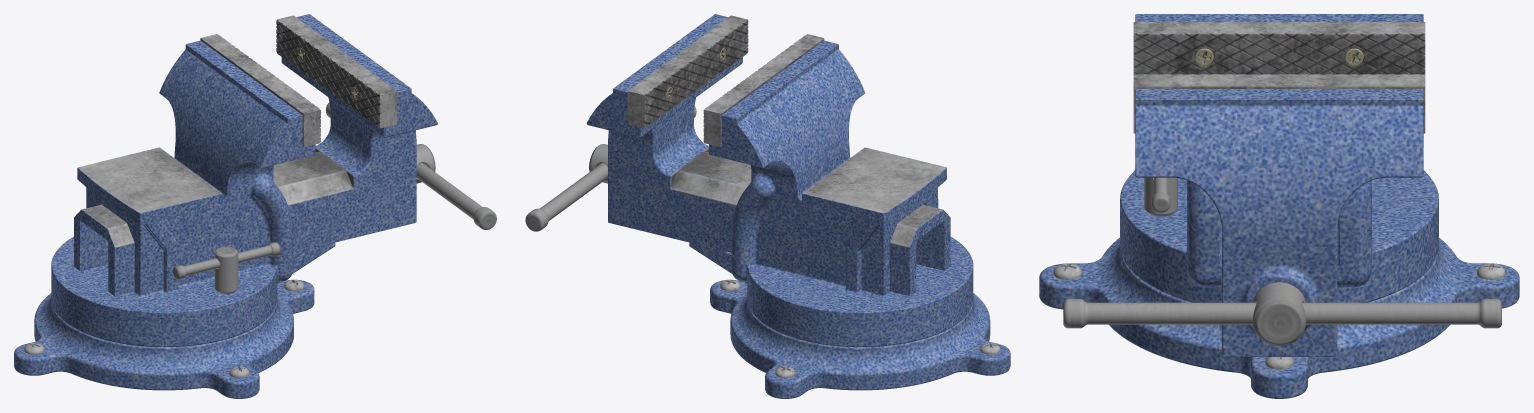
The model's file is equipment_bench_vise_a01.glb.
3 renders of one model, left to right at view 1: azimuth 30°, elevation 25°; view 2: azimuth 150°, elevation 25°; view 3: azimuth 270°, elevation 25°, orthographic. The views are drawn at different scales.
Visible parts, largest first — view 1: stationaryJaw_01_mesh_00, slidingJaw_01_mesh_00, body_01_mesh_00, handle_01_mesh_00; view 2: stationaryJaw_01_mesh_00, slidingJaw_01_mesh_00, body_01_mesh_00, handle_01_mesh_00; view 3: slidingJaw_01_mesh_00, stationaryJaw_01_mesh_00, body_01_mesh_00, handle_01_mesh_00, screw_01_mesh_00.
Boxes of the visible parts, <box> form: stationaryJaw_01_mesh_00: <box>51,34,335,347</box>; slidingJaw_01_mesh_00: <box>74,14,437,296</box>; body_01_mesh_00: <box>14,279,314,398</box>; handle_01_mesh_00: <box>326,102,496,229</box>; stationaryJaw_01_mesh_00: <box>689,34,973,347</box>; slidingJaw_01_mesh_00: <box>586,14,950,296</box>; body_01_mesh_00: <box>710,279,1010,398</box>; handle_01_mesh_00: <box>525,106,696,231</box>; slidingJaw_01_mesh_00: <box>1133,74,1425,356</box>; stationaryJaw_01_mesh_00: <box>1120,14,1438,302</box>; body_01_mesh_00: <box>1039,238,1519,398</box>; handle_01_mesh_00: <box>1063,298,1501,328</box>; screw_01_mesh_00: <box>1252,282,1306,345</box>.
Bounding box in the file's own units: 0.3244 × 0.1803 × 0.2328.
Materials: 1 (1 with a texture image).
